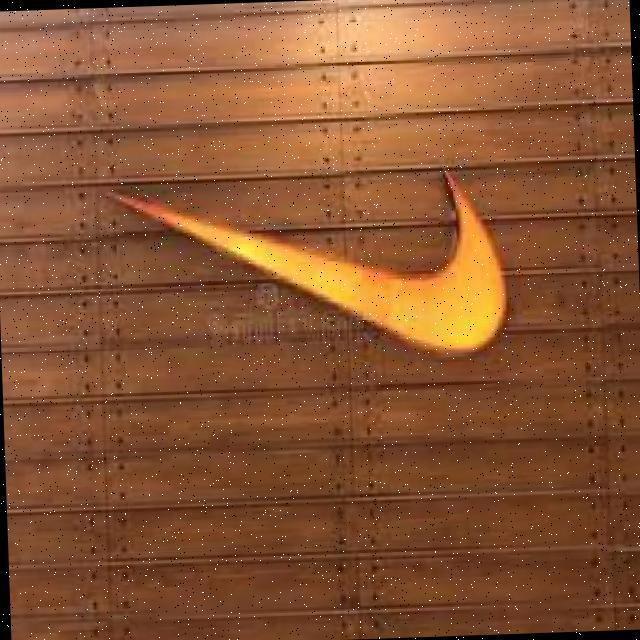Nike: (99, 158, 521, 366)
